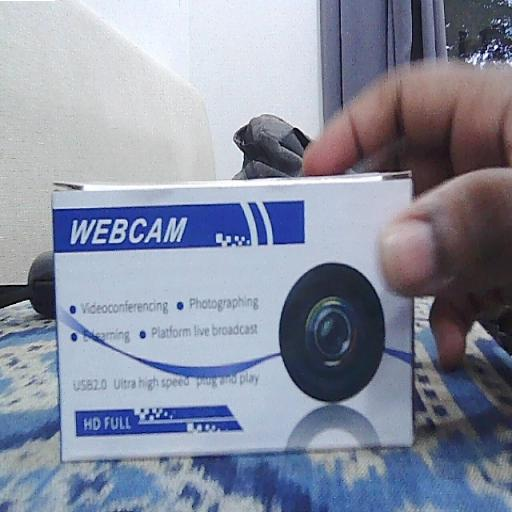webcam_box: (52, 169, 417, 462)
